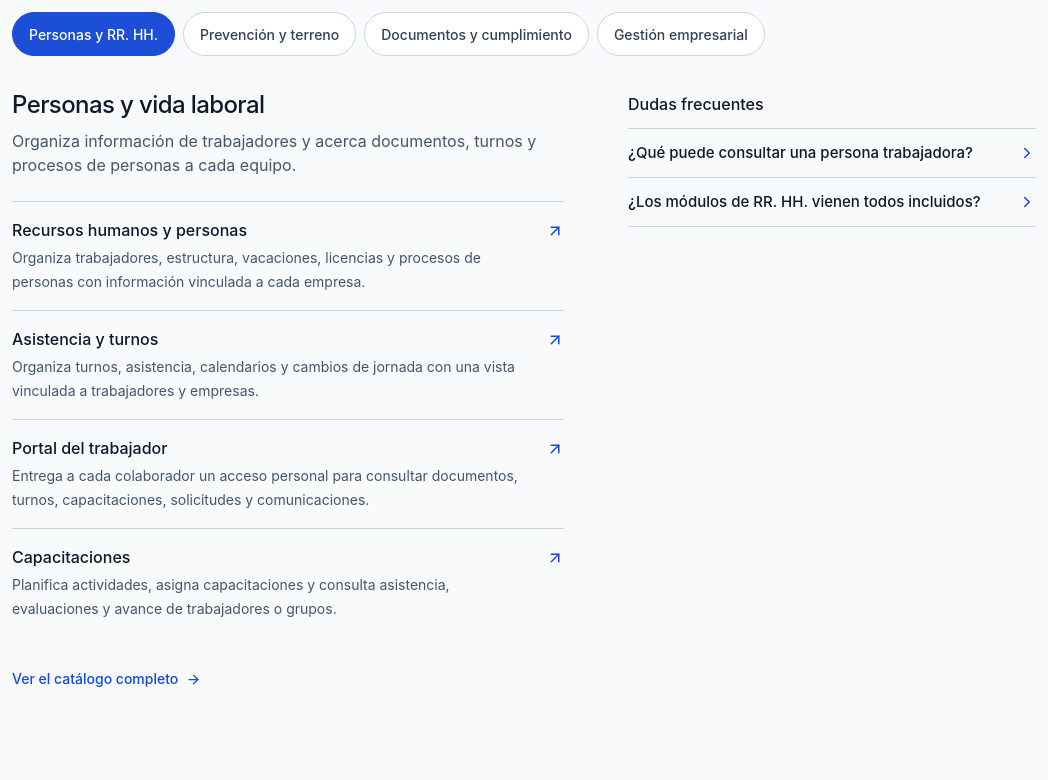
ModuleExplorer › filtra por área y abre una respuesta relevante
Step 1. Click the button "Prevención y terreno" → (270, 34), box [183,12,356,56]
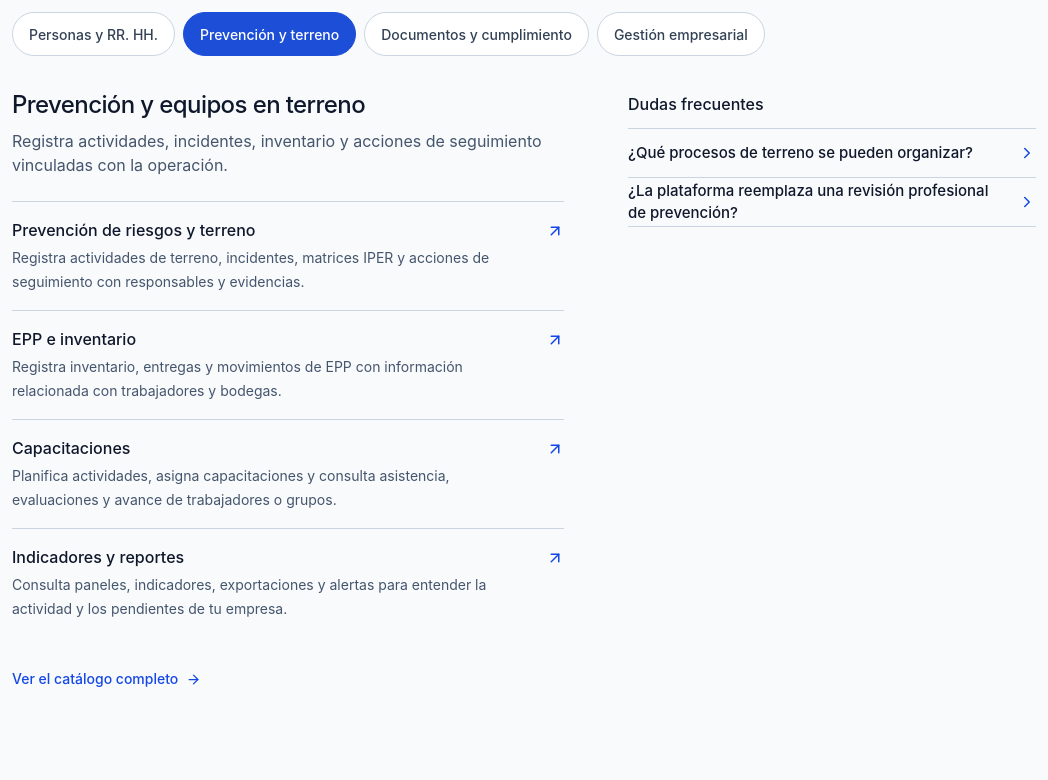
Check: the heading "Prevención y equipos en terreno" is shown, box [12,90,365,119]
Check: the link "Portal del trabajador" is gone
Step 2. Click the heading "¿La plataforma reemplaza una revisión profesional de prevención?" → (832, 202), box [628,178,1036,226]
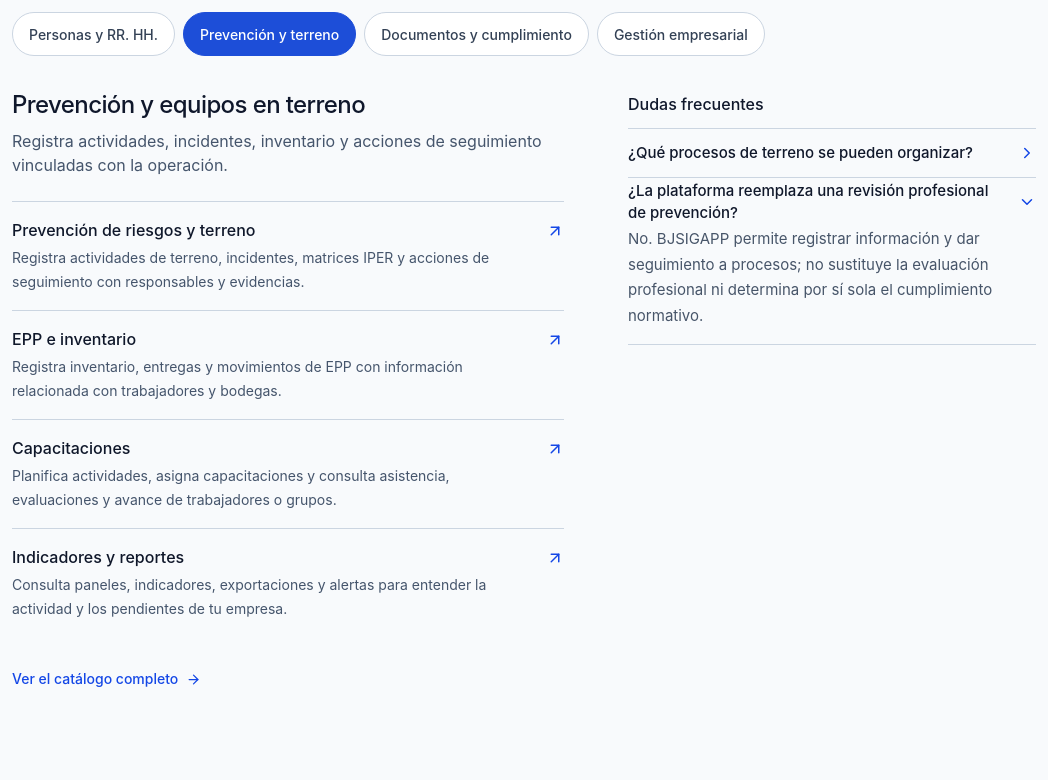
Check: the text "no sustituye la evaluación profesional ni determina por sí sola" is shown, box [628,229,992,324]
